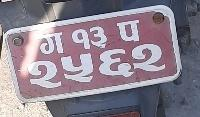1: (71, 27, 91, 51)
2: (25, 57, 62, 89), (132, 42, 169, 74)
3: (90, 23, 110, 49)
5: (60, 52, 97, 86)
6: (97, 47, 134, 79)
ga: (36, 30, 64, 56)
pa: (115, 19, 143, 43)
